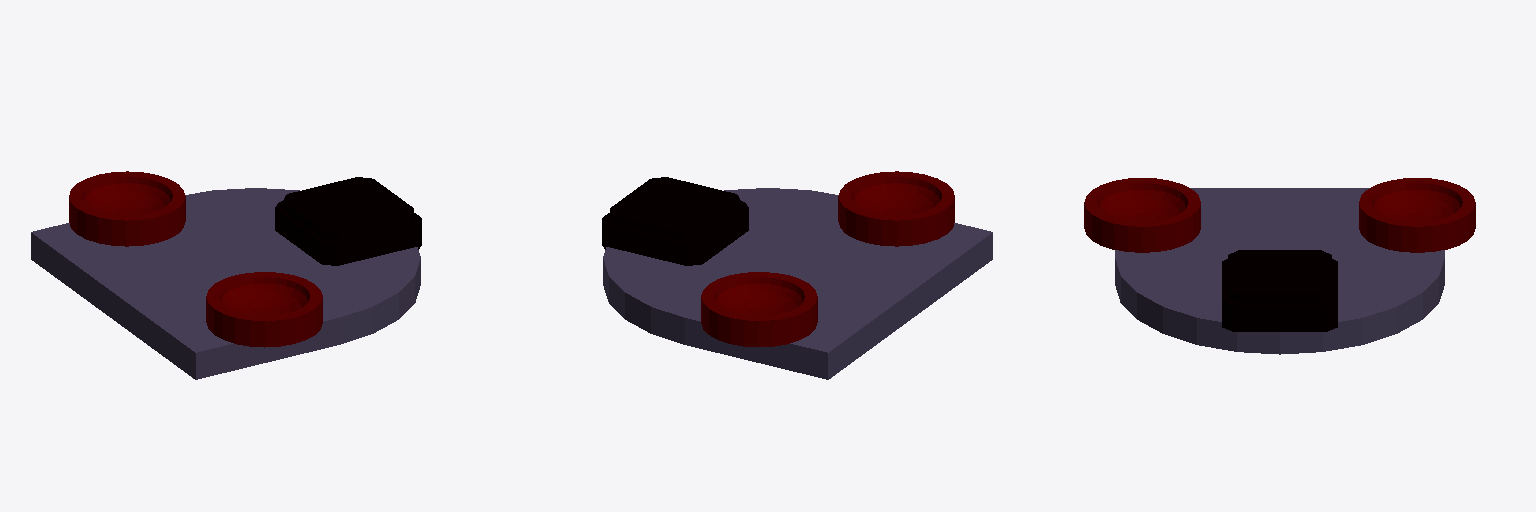
Rendered from Gate-AND.obj.
3 views of the same model, side by side, from view 1: azimuth 30°, elevation 25°; view 2: azimuth 150°, elevation 25°; view 3: azimuth 270°, elevation 25° (orthographic).
Visible parts, largest first — view 1: Handle1, Output1, Inputb1, Inputa1; view 2: Handle1, Output1, Inputa1, Inputb1; view 3: Handle1, Output1, Inputa1, Inputb1.
Part boxes in pixels (x1,y1,x2,y2): Handle1: (31, 188, 420, 379); Output1: (275, 177, 421, 265); Inputb1: (206, 272, 322, 347); Inputa1: (69, 171, 185, 246); Handle1: (603, 188, 992, 379); Output1: (602, 177, 748, 265); Inputa1: (701, 272, 817, 346); Inputb1: (838, 171, 954, 246); Handle1: (1115, 188, 1444, 354); Output1: (1222, 250, 1337, 331); Inputa1: (1359, 178, 1475, 252); Inputb1: (1084, 178, 1200, 252).
Size of the model in its own units: 1.7 by 0.3273 by 2.01.